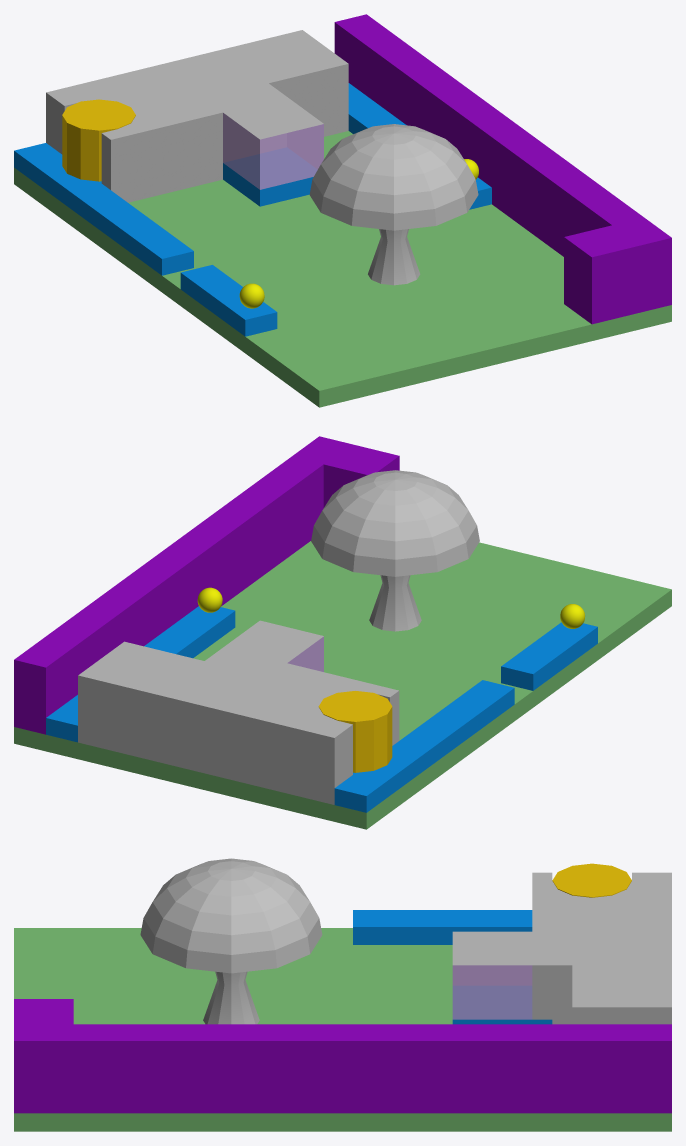
Rendered from SizzleLevel.fbx.
3 views of the same model, one above another, from view 1: azimuth 30°, elevation 25°; view 2: azimuth 150°, elevation 25°; view 3: azimuth 270°, elevation 25° (orthographic). The views are drawn at different scales.
Visible parts, largest first — view 1: GroundPlane, Level2_Platform2, Level2_Platform1_Hidden, Tree, Level1_Platform1, Level2_Platform1_HiddenWall, Elevator, Level1_Platform3, Level1_Platform2; view 2: GroundPlane, Level2_Platform1_Hidden, Level2_Platform2, Tree, Level1_Platform1, Elevator, Level1_Platform3, Level2_Platform1_HiddenWall; view 3: Level2_Platform2, GroundPlane, Level2_Platform1_Hidden, Tree, Level1_Platform1, Level2_Platform1_HiddenWall, Elevator, Level1_Platform2.
Boxes of the visible parts, x1,y1,x2,y2 form: GroundPlane: (14, 131, 671, 407); Level2_Platform2: (334, 14, 671, 324); Level2_Platform1_Hidden: (46, 30, 348, 202); Tree: (309, 124, 478, 285); Level1_Platform1: (14, 143, 277, 336); Level2_Platform1_HiddenWall: (223, 113, 323, 189); Elevator: (62, 99, 135, 181); Level1_Platform3: (348, 83, 491, 209); Level1_Platform2: (223, 163, 313, 206); GroundPlane: (14, 541, 671, 829); Level2_Platform1_Hidden: (78, 620, 399, 804); Level2_Platform2: (14, 436, 399, 734); Tree: (311, 470, 479, 631); Level1_Platform1: (334, 622, 597, 812); Elevator: (318, 691, 392, 772); Level1_Platform3: (46, 606, 235, 742); Level2_Platform1_HiddenWall: (287, 636, 323, 671); Level2_Platform2: (14, 999, 671, 1113); GroundPlane: (14, 928, 671, 1131); Level2_Platform1_Hidden: (452, 872, 671, 1024); Tree: (140, 858, 322, 1024); Level1_Platform1: (353, 910, 532, 944); Level2_Platform1_HiddenWall: (452, 965, 532, 1019); Elevator: (552, 863, 631, 897); Level1_Platform2: (452, 1019, 552, 1024).
Size of the model in its own units: 2266 by 967 by 3399.
